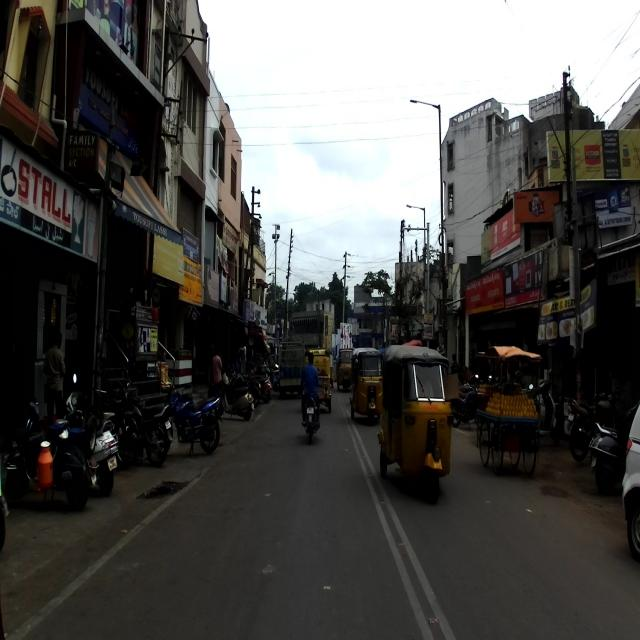autorickshaw: (377, 344, 452, 503)
motorcycle_Hero: (108, 382, 172, 466)
motorcycle_bajaj: (161, 382, 223, 456), (566, 390, 626, 462)
scooter: (2, 399, 98, 512), (64, 372, 122, 496), (588, 414, 634, 494), (526, 378, 560, 444)
